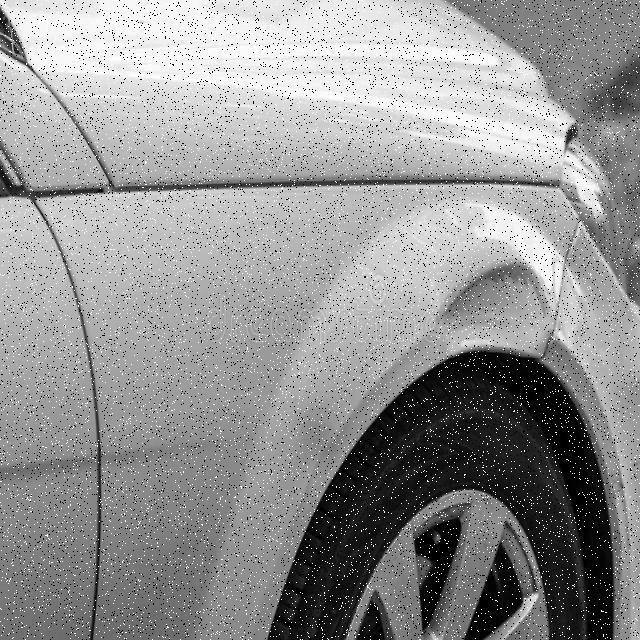fender-dent: (72, 178, 561, 516)
